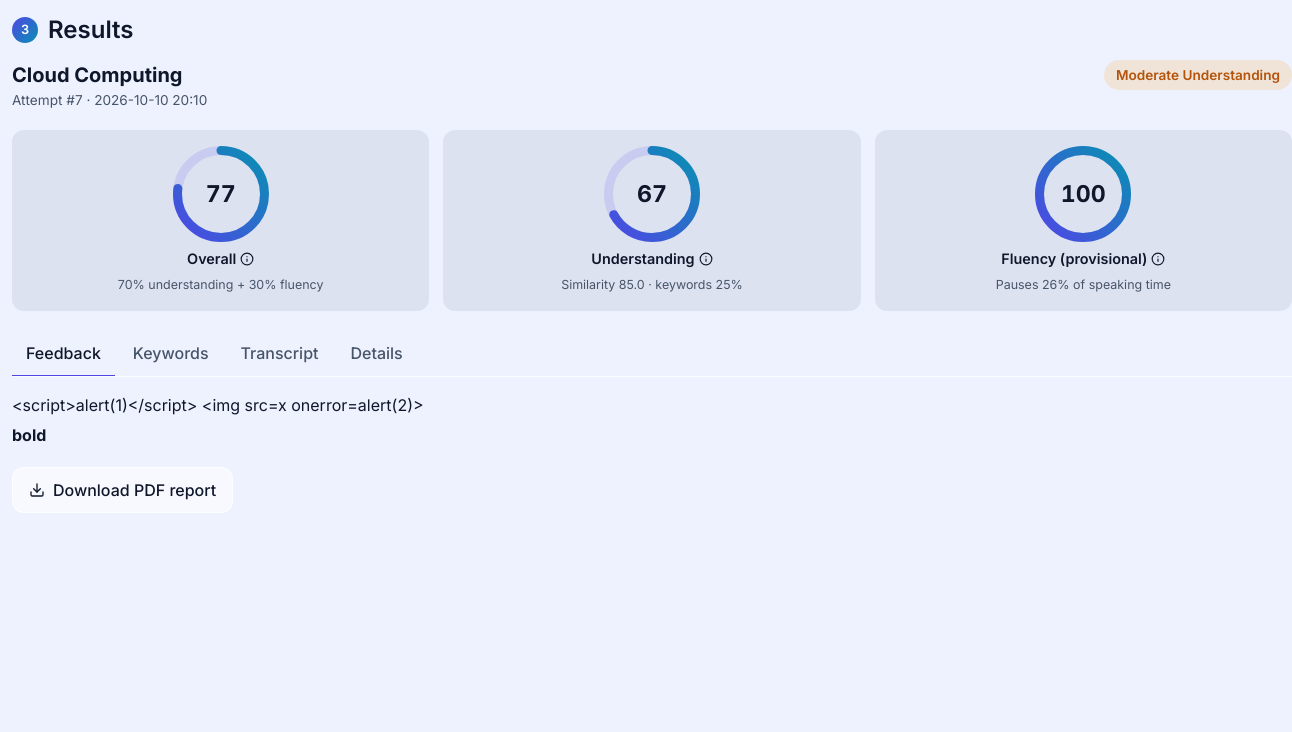
it: Results › never renders markup from transcript or feedback
Expected: the text "bold" is shown, x1=12 y1=425 x2=46 y2=445
Click the tab "Transcript": (280, 354) x1=227 y1=331 x2=332 y2=377
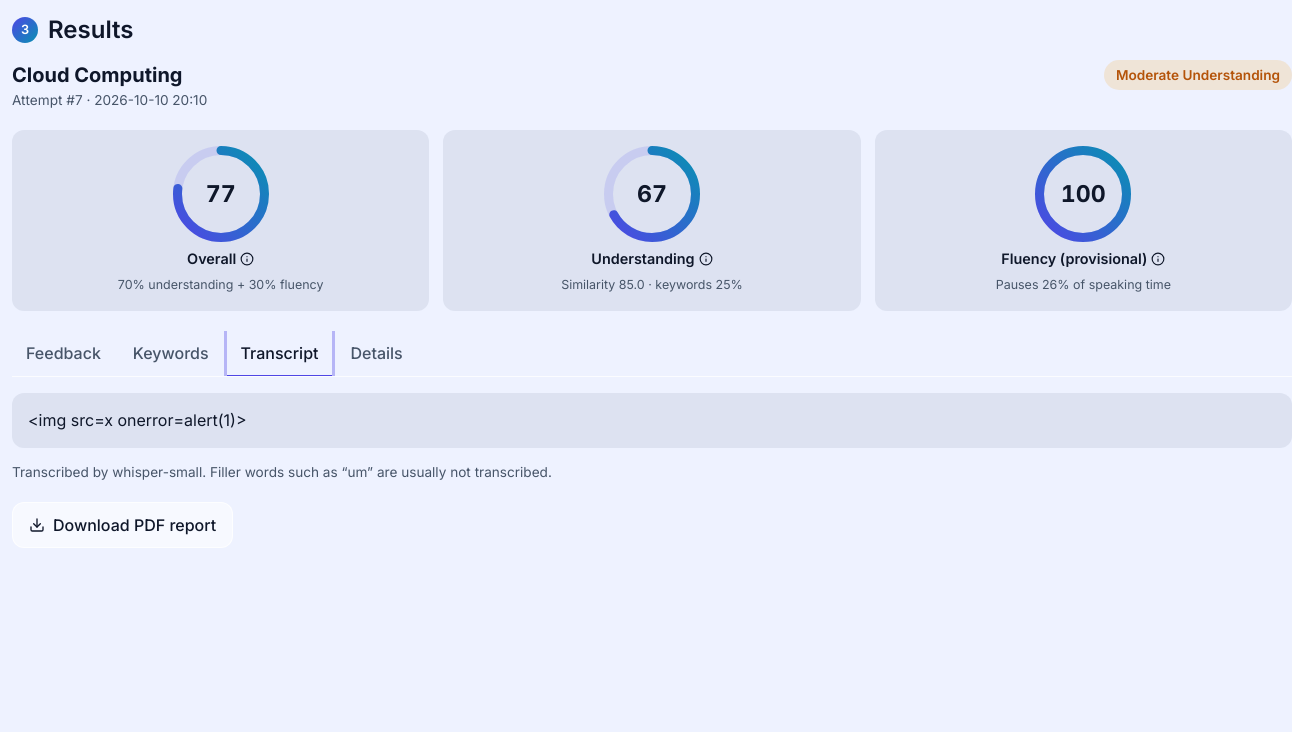
Expected: the text "<img src=x onerror=alert(1)>" is shown, x1=12 y1=393 x2=1291 y2=448
